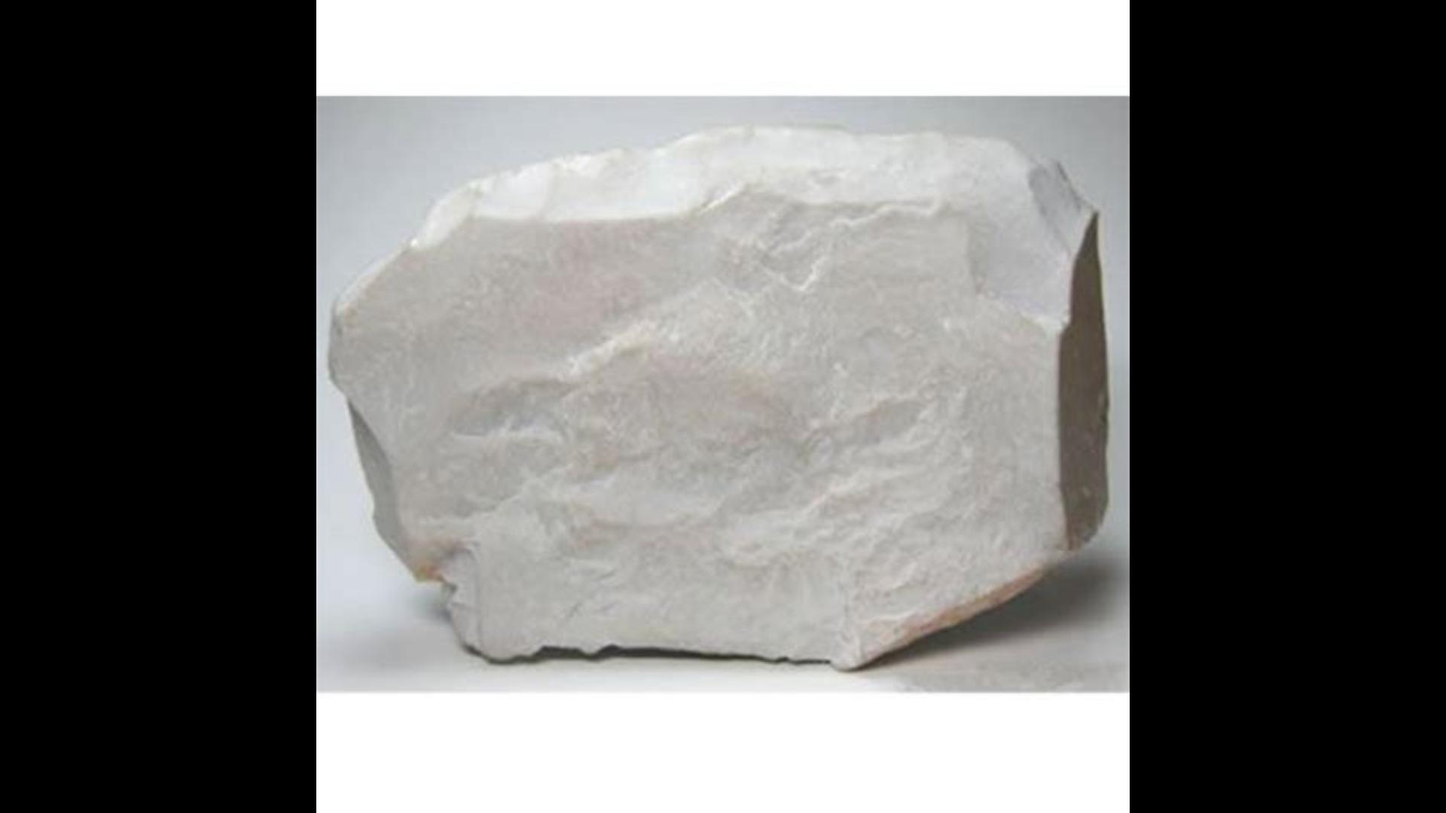rock: (332, 125, 1102, 665)
